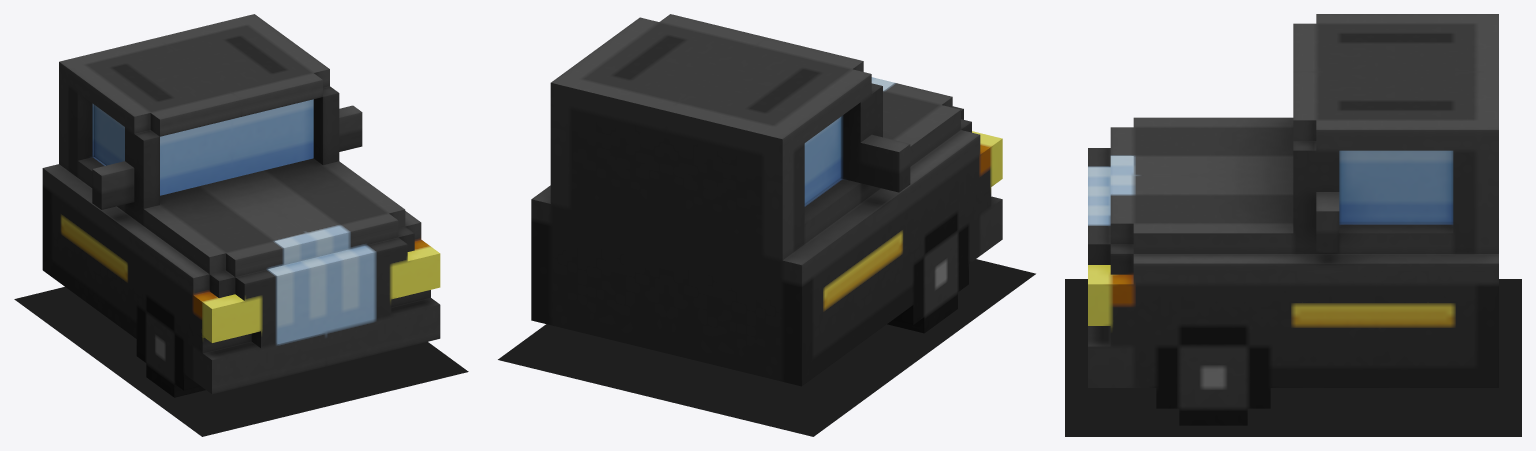
The model's file is limousine_head.FBX.
The picture shows the model from 3 angles, left to right: view 1: azimuth 30°, elevation 25°; view 2: azimuth 150°, elevation 25°; view 3: azimuth 270°, elevation 25°; orthographic projection. The views are drawn at different scales.
Visible parts, largest first — view 1: limousine_head, limousine_head_soft_shadow; view 2: limousine_head, limousine_head_soft_shadow; view 3: limousine_head, limousine_head_soft_shadow.
Part boxes in pixels (x1,y1,x2,y2): limousine_head: (42,14,440,397); limousine_head_soft_shadow: (14,287,468,436); limousine_head: (531,14,1002,386); limousine_head_soft_shadow: (498,259,1035,436); limousine_head: (1088,14,1498,425); limousine_head_soft_shadow: (1065,279,1521,436).
Bounding box in the file's own units: 900 × 770 × 1100.
